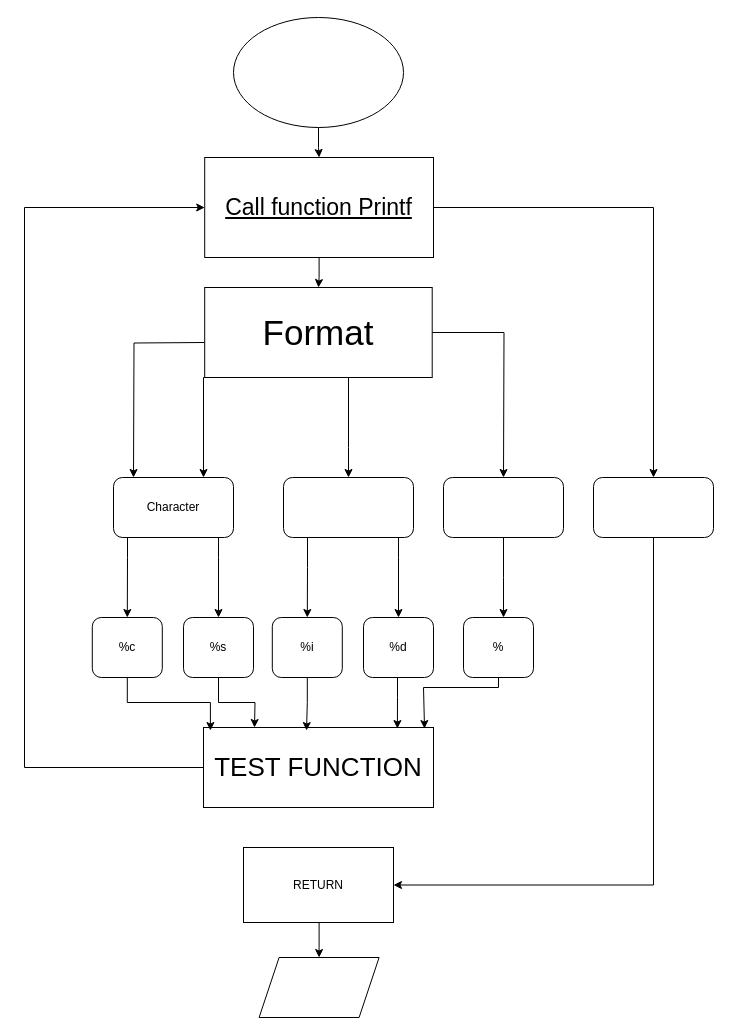
The diagram is 731 pixels wide and 1035 high, and some of its shapes have lost their labels. The shapes that lost their labels are listed below. From the top down, each one's box as (x1, y1, x2, y2) in pixels, then its label:
(232, 16, 404, 128): Start
(282, 476, 414, 538): INTEGER
(442, 476, 564, 538): PERCENTAGE
(592, 476, 714, 538): NULL
(258, 956, 379, 1018): OUTPUT
